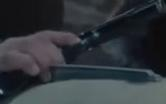gun: (1, 1, 166, 104)
